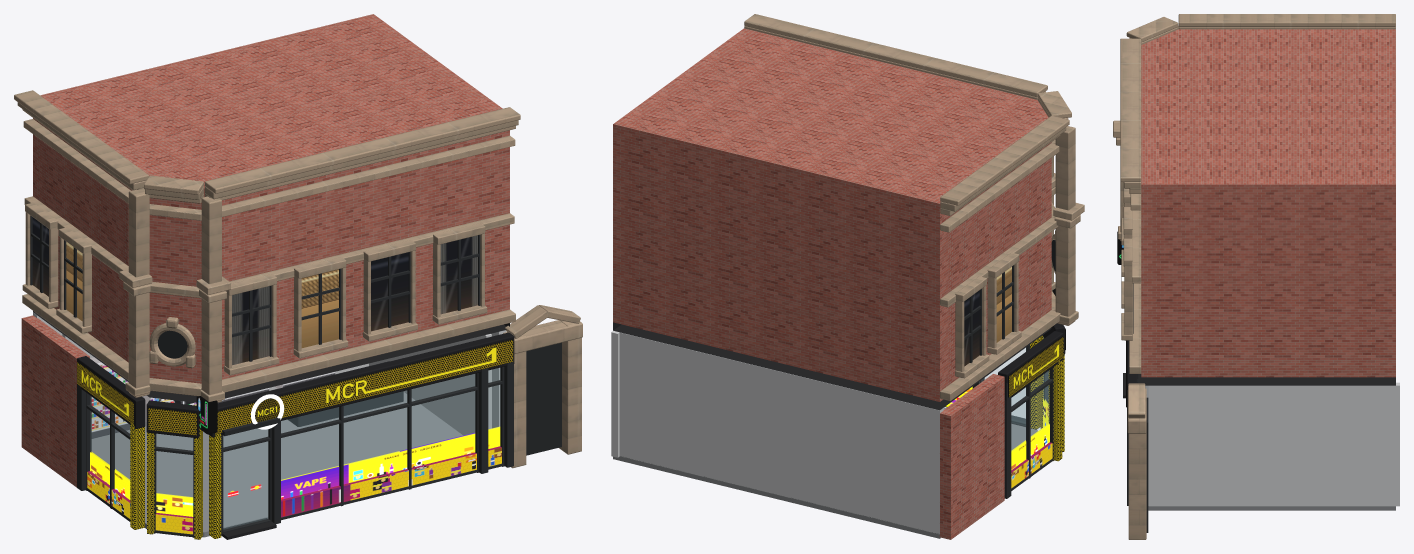
Rendered from harpurhey-mcr1-geometry.glb.
The picture shows the model from 3 angles, left to right: view 1: azimuth 30°, elevation 25°; view 2: azimuth 150°, elevation 25°; view 3: azimuth 270°, elevation 25°; orthographic projection. The views are drawn at different scales.
Visible parts, largest first — view 1: MCR1_Historic_Upper_Mass, MCR1_Interior_Floor_Slab, MCR1_Front_Display_Glass, MCR1_Side_Masonry_Return, MCR1_HistoricFascia_Front_FaceCarrier, MCR1_Cornice_2_Front, MCR1_StoneCourse_0_Front, MCR1_Door_Glass, MCR1_CornerPilaster_Side, MCR1_Portal_Recess, MCR1_CornerPilaster_Front, MCR1_StoneCourse_2_Front (+49 smaller); view 2: MCR1_Historic_Upper_Mass, MCR1_Shell_RearWall, MCR1_Side_Masonry_Return, MCR1_Cornice_2_Front, MCR1_CornerPilaster_Side, MCR1_Ground_Header_Slab, MCR1_Cornice_2_Side, MCR1_Side_Display_Glass, MCR1_Interior_Floor_Slab, MCR1_StoneCourse_0_Side, MCR1_StoneCourse_2_Side, MCR1_HistoricFascia_Side_FaceCarrier (+13 smaller); view 3: MCR1_Historic_Upper_Mass, MCR1_Shell_RightWall, MCR1_Cornice_2_Front, MCR1_Cornice_2_Side, MCR1_Ground_Header_Slab, MCR1_Portal_Jamb_7.08, MCR1_Interior_Floor_Slab, MCR1_StoneCourse_0_Front, MCR1_StoneCourse_1_Front, MCR1_Cornice_2_Corner, MCR1_Cornice_1_Side, MCR1_Front_UpperWindow_04_RightJamb (+3 smaller).
Boxes of the visible parts, x1,y1,x2,y2 form: MCR1_Historic_Upper_Mass: [33, 14, 509, 383]; MCR1_Interior_Floor_Slab: [91, 392, 462, 537]; MCR1_Front_Display_Glass: [281, 374, 475, 499]; MCR1_Side_Masonry_Return: [21, 315, 89, 487]; MCR1_HistoricFascia_Front_FaceCarrier: [214, 339, 513, 434]; MCR1_Cornice_2_Front: [204, 107, 520, 193]; MCR1_StoneCourse_0_Front: [222, 309, 515, 392]; MCR1_Door_Glass: [223, 428, 267, 529]; MCR1_CornerPilaster_Side: [128, 189, 149, 397]; MCR1_Portal_Recess: [526, 342, 561, 455]; MCR1_CornerPilaster_Front: [201, 196, 221, 402]; MCR1_StoneCourse_2_Front: [222, 135, 515, 217]; MCR1_Historic_Upper_Mass: [613, 28, 1051, 401]; MCR1_Shell_RearWall: [619, 332, 943, 534]; MCR1_Side_Masonry_Return: [939, 374, 1004, 539]; MCR1_Cornice_2_Front: [744, 14, 1047, 97]; MCR1_CornerPilaster_Side: [1055, 126, 1075, 325]; MCR1_Ground_Header_Slab: [613, 322, 1051, 410]; MCR1_Cornice_2_Side: [940, 115, 1069, 205]; MCR1_Side_Display_Glass: [1011, 371, 1049, 469]; MCR1_Interior_Floor_Slab: [613, 407, 1037, 538]; MCR1_StoneCourse_0_Side: [940, 310, 1060, 400]; MCR1_StoneCourse_2_Side: [940, 143, 1059, 232]; MCR1_HistoricFascia_Side_FaceCarrier: [1008, 336, 1063, 397]; MCR1_Historic_Upper_Mass: [1141, 29, 1395, 377]; MCR1_Shell_RightWall: [1148, 382, 1399, 506]; MCR1_Cornice_2_Front: [1120, 38, 1141, 181]; MCR1_Cornice_2_Side: [1178, 14, 1395, 26]; MCR1_Ground_Header_Slab: [1141, 377, 1395, 385]; MCR1_Portal_Jamb_7.08: [1128, 413, 1146, 539]; MCR1_Interior_Floor_Slab: [1145, 385, 1395, 510]; MCR1_StoneCourse_0_Front: [1129, 283, 1141, 373]; MCR1_StoneCourse_1_Front: [1132, 210, 1141, 283]; MCR1_Cornice_2_Corner: [1126, 17, 1178, 42]; MCR1_Cornice_1_Side: [1178, 26, 1395, 29]; MCR1_Front_UpperWindow_04_RightJamb: [1124, 263, 1132, 340].
Size of the model in its own units: 12.46 by 9.8 by 7.65.
Materials: 16 (9 with a texture image).
